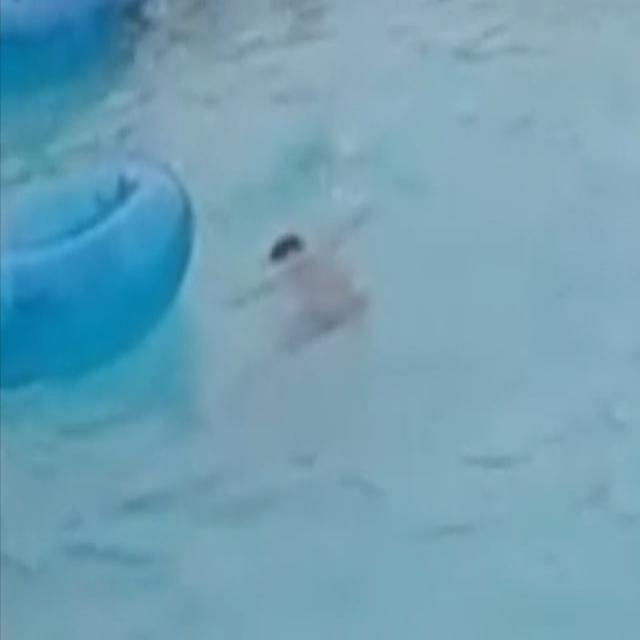drowning: (241, 176, 400, 392)
